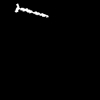half_double_crochet: (15, 4, 47, 16)
